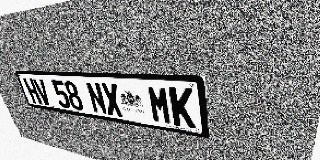5: (51, 80, 72, 109)
8: (63, 80, 85, 111)
H: (23, 78, 43, 104)
K: (169, 87, 196, 128)
M: (146, 85, 173, 125)
N: (85, 82, 108, 115)
V: (32, 79, 53, 106)
X: (100, 83, 124, 117)
